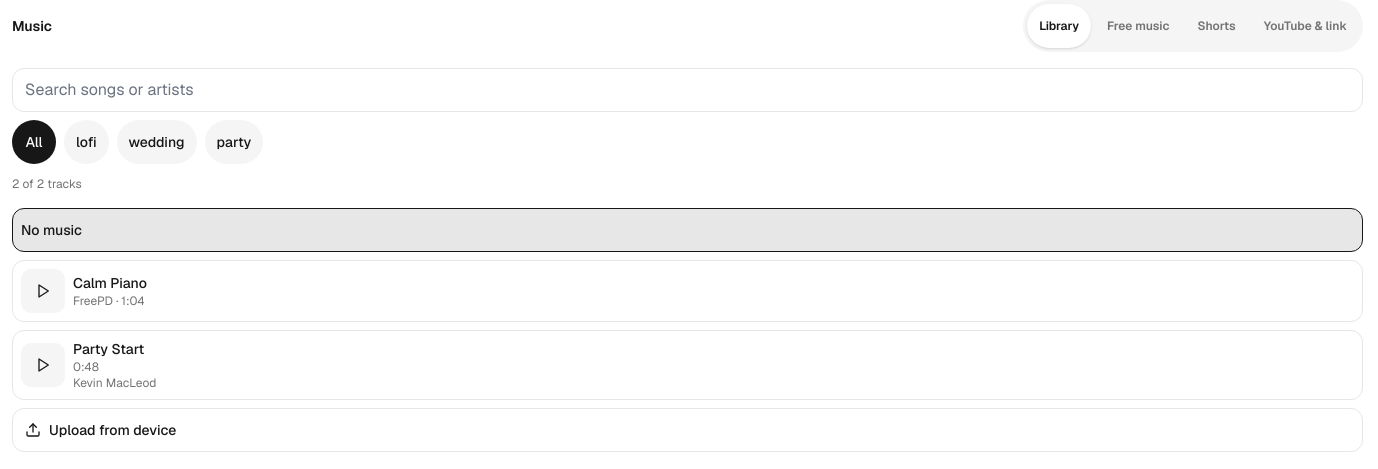
link tab › rejects non-https links
This screenshot has width=1378, height=469.
Click the button "YouTube & link" at (1305, 26), box [1252,4,1359,48]
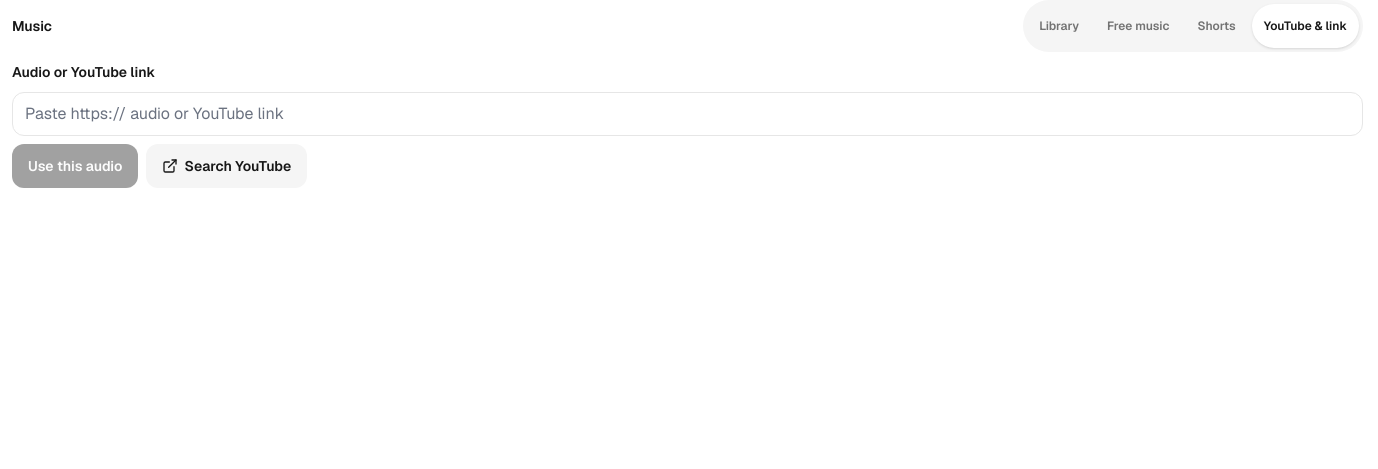
Type "http://example.com/song.mp3" into the field labelled "Audio or YouTube link" at (688, 114), box [12,92,1363,136]
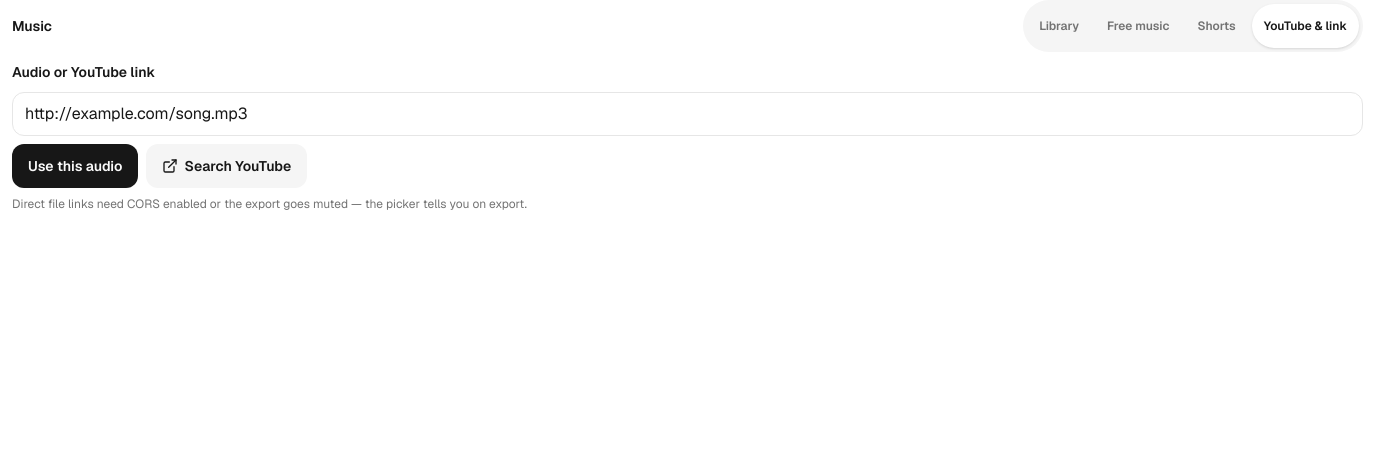
Click the button "Use this audio" at (75, 166), box [12,144,138,188]
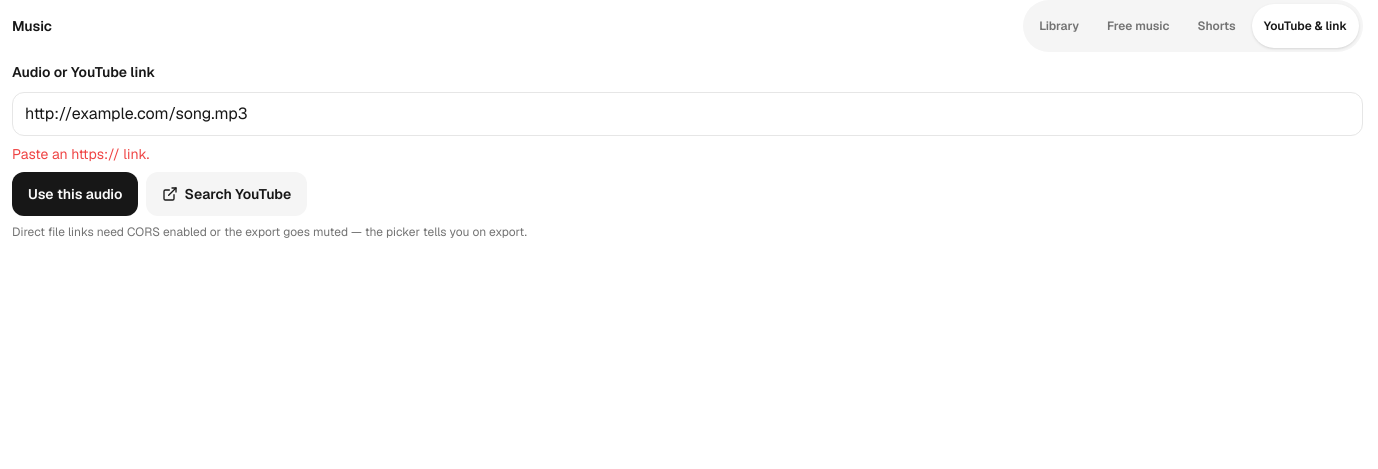
Expected: the message shows "https://", [12,145,149,163]
